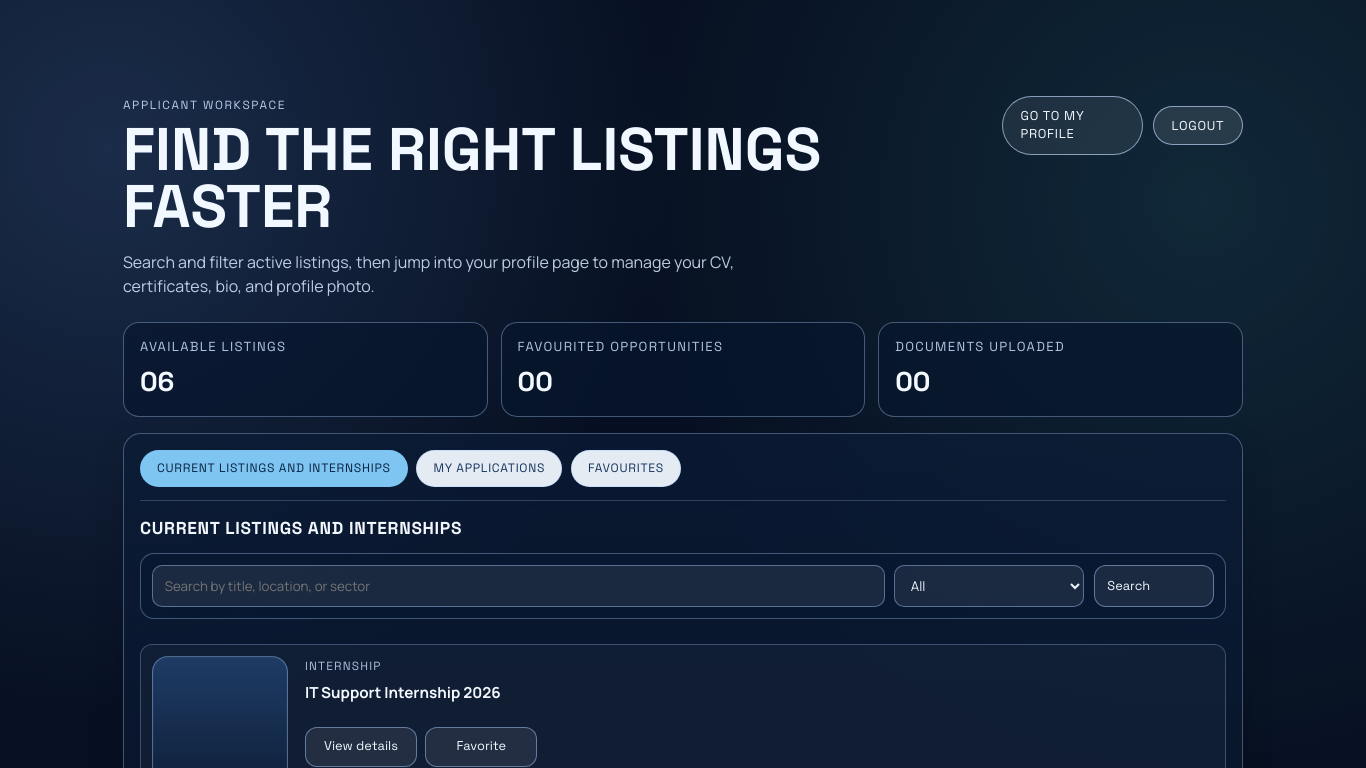
Test: Applicant search listings › returns matching approved listings for a keyword search
Type "office" into the search field with placeholder "Search by title, location, or sector" at coordinates (518, 586), box [152,565,885,607]
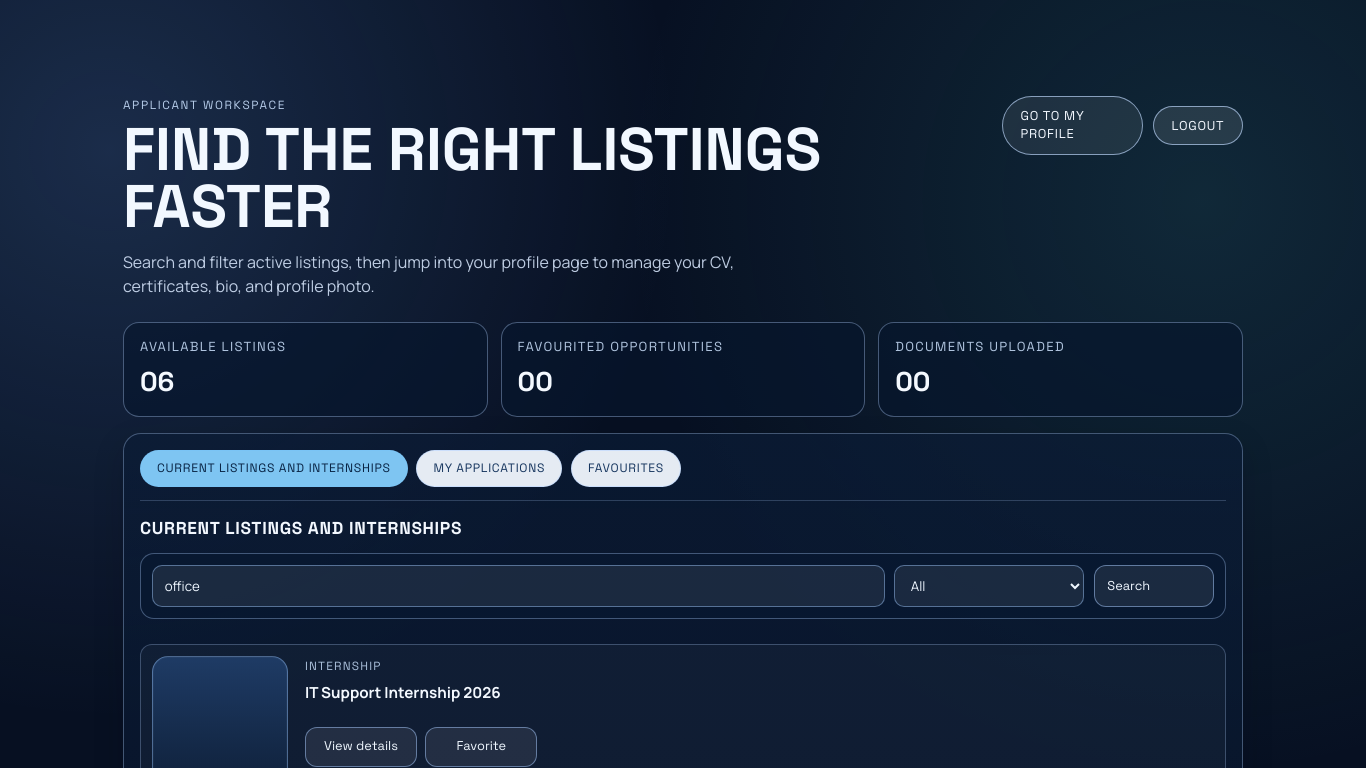
Select "All" in the dropdown named "Filter listing type" at coordinates (989, 586), box [894,565,1084,607]
Click the button "Search" at coordinates (1154, 586), box [1094,565,1214,607]
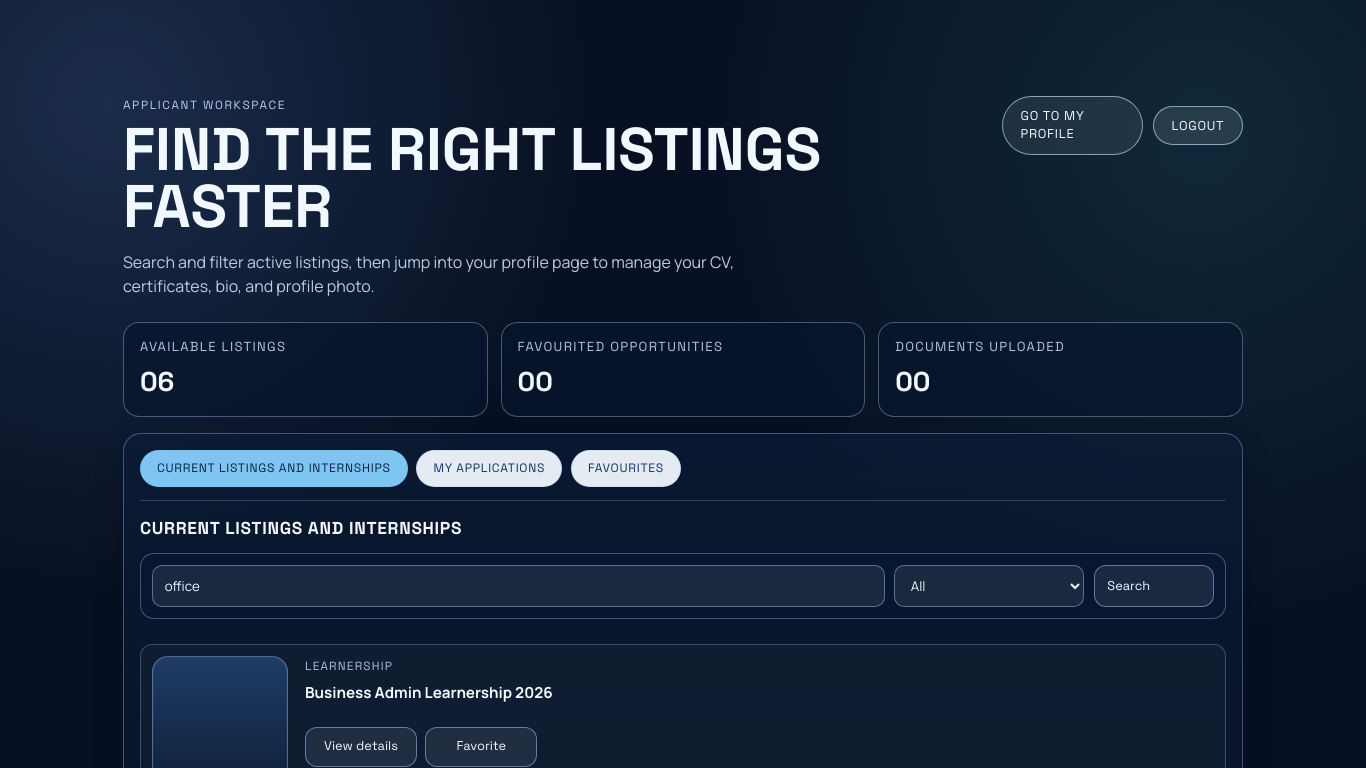
Expected: the text "Business Admin Learnership 2026" is shown, [305,682,553,703]
Expected: the text "IT Support Internship 2026" is gone
